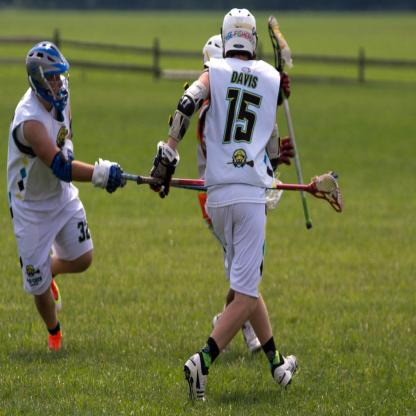Helmet: (24, 43, 63, 111), (220, 8, 258, 61), (202, 33, 223, 72)
